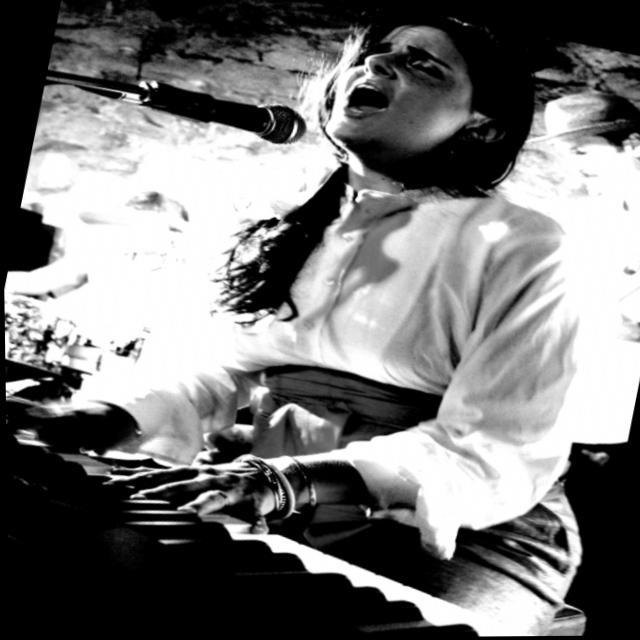Nonhelmet: (308, 8, 552, 206)
